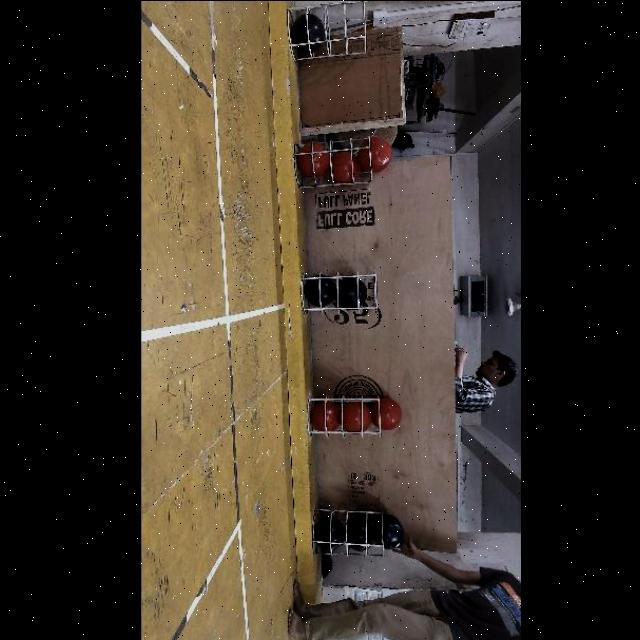P: (296, 15, 326, 50), (317, 516, 347, 548), (344, 517, 374, 549), (306, 275, 336, 305), (336, 278, 366, 308), (376, 516, 404, 548)
R: (361, 137, 391, 171), (300, 142, 330, 176), (310, 401, 342, 432), (373, 399, 403, 429), (332, 153, 360, 184), (345, 402, 371, 432)
S: (288, 1, 372, 62), (296, 136, 384, 188), (310, 504, 388, 558), (305, 394, 387, 444), (304, 272, 386, 316)
